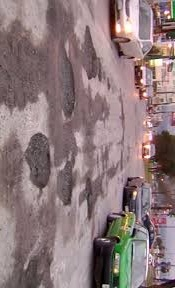pothole: (18, 244, 57, 288), (26, 128, 51, 196), (59, 39, 78, 121), (57, 156, 76, 209), (83, 26, 98, 82), (79, 176, 94, 222), (96, 56, 103, 83), (106, 75, 111, 88)
